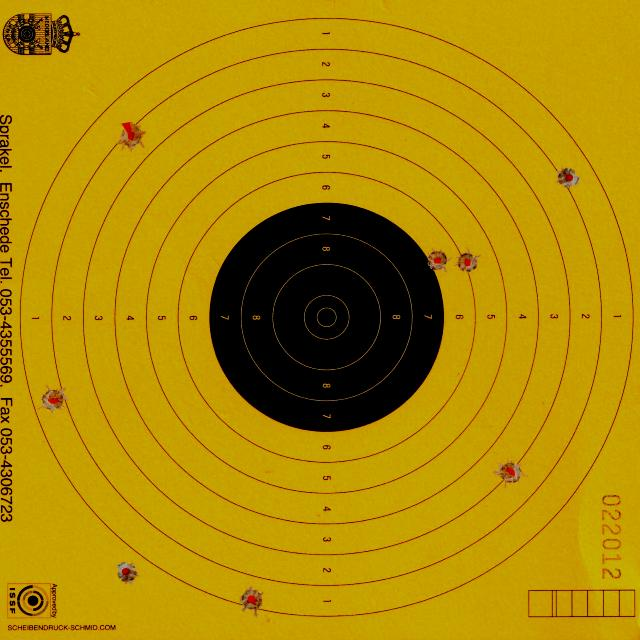0: (115, 560, 138, 586)
1: (238, 586, 265, 618)
2: (36, 383, 70, 418), (116, 120, 147, 154), (555, 166, 581, 191)
3: (492, 458, 529, 489)
6: (452, 248, 480, 274)
7: (426, 246, 452, 272)
Target: (20, 15, 634, 619)
black_contour: (209, 202, 444, 432)
